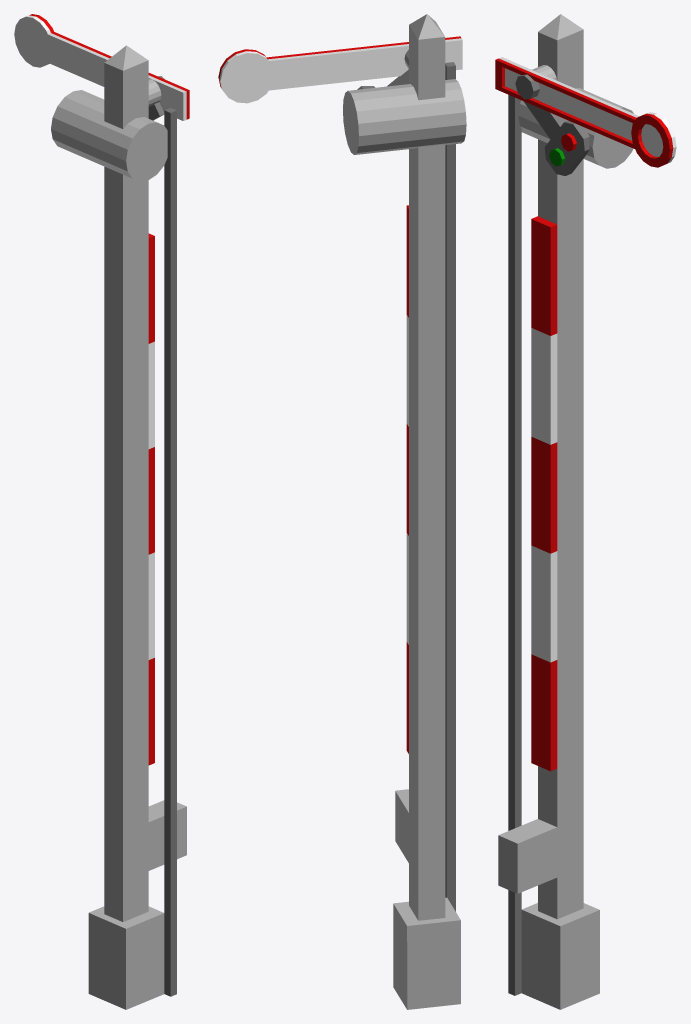
Rendered from GMLID_5361967_192822_672.gltf.
3 views of the same model, side by side, from view 1: azimuth 90°, elevation 25°; view 2: azimuth 150°, elevation 25°; view 3: azimuth 270°, elevation 25° (orthographic). The views are drawn at different scales.
Parts seen in each view (by area): view 1: Z_UP; view 2: Z_UP; view 3: Z_UP.
Part boxes in pixels (x1,y1,x2,y2): Z_UP: (14, 14, 189, 1009); Z_UP: (218, 14, 466, 1009); Z_UP: (495, 14, 676, 1009).
Bounding box in the file's own units: 2.9 × 14.04 × 2.35.
